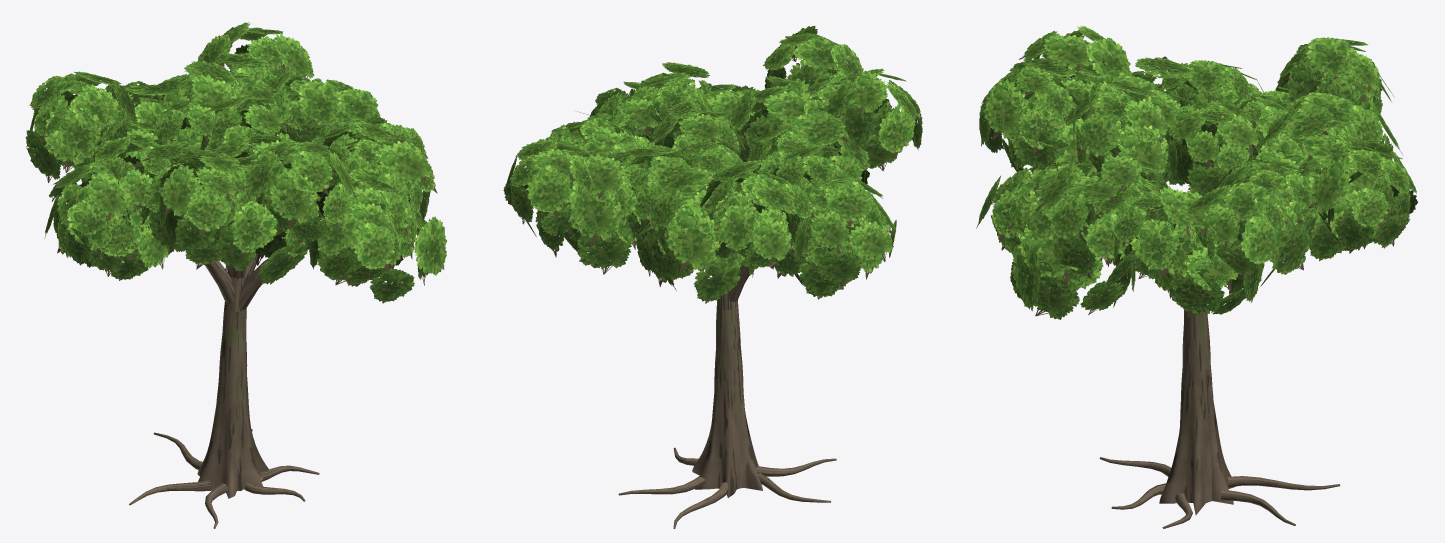
File: big-tropical-tree.glb
3 renders of one model, left to right at view 1: azimuth 30°, elevation 25°; view 2: azimuth 150°, elevation 25°; view 3: azimuth 270°, elevation 25°, orthographic. The views are drawn at different scales.
Parts seen in each view (by area): view 1: BigTree-big-tropical-tree; view 2: BigTree-big-tropical-tree; view 3: BigTree-big-tropical-tree.
Boxes of the visible parts, bbox=[...] form: BigTree-big-tropical-tree: bbox=[25, 22, 446, 528]; BigTree-big-tropical-tree: bbox=[503, 25, 922, 528]; BigTree-big-tropical-tree: bbox=[976, 25, 1417, 528].
Bounding box in the file's own units: 24.42 × 26 × 25.38.
Materials: 1 (1 with a texture image).
